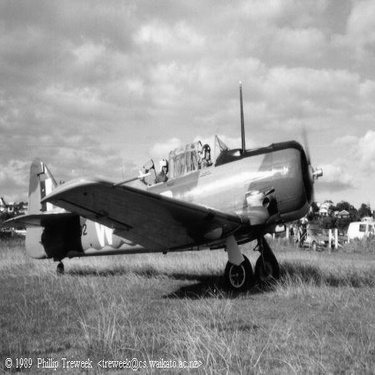airplane: (1, 80, 348, 309)
